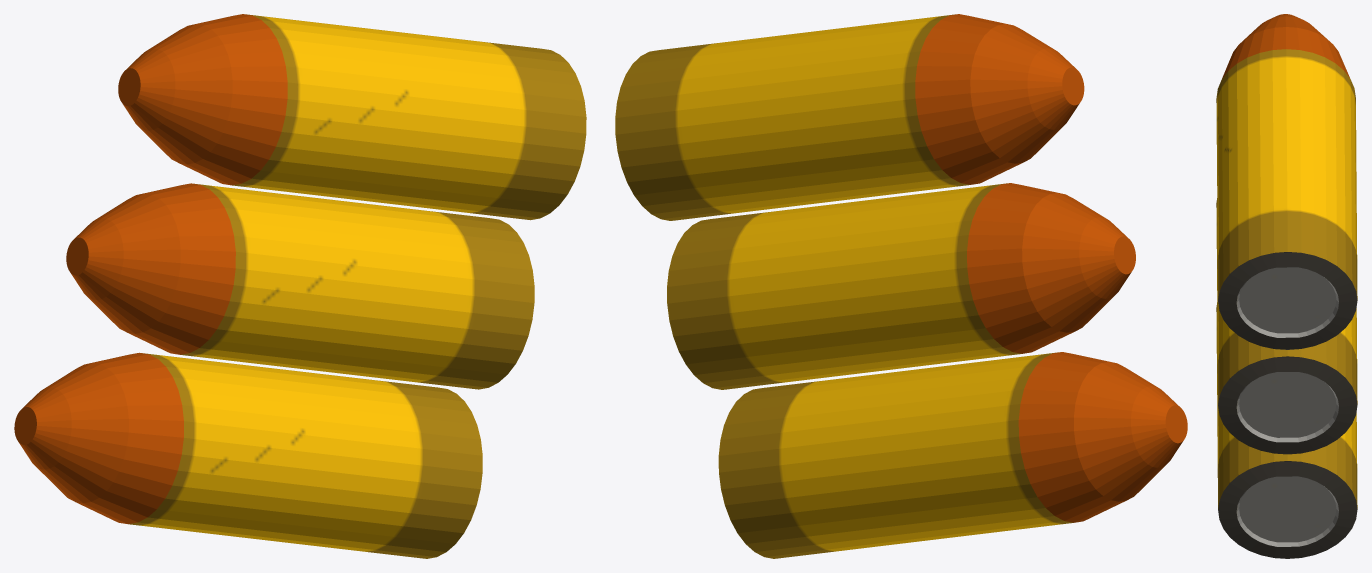
File: Balas.fbx
The picture shows the model from 3 angles, left to right: view 1: azimuth 30°, elevation 25°; view 2: azimuth 150°, elevation 25°; view 3: azimuth 270°, elevation 25°; orthographic projection. The views are drawn at different scales.
Parts seen in each view (by area): view 1: Munición.002; view 2: Munición.002; view 3: Munición.002.
Boxes of the visible parts, box(x1,y1,x2,y2) form: Munición.002: box(14, 14, 586, 558); Munición.002: box(615, 14, 1187, 558); Munición.002: box(1216, 14, 1357, 558).
Bounding box in the file's own units: 1.71 × 1.73 × 0.4847.
